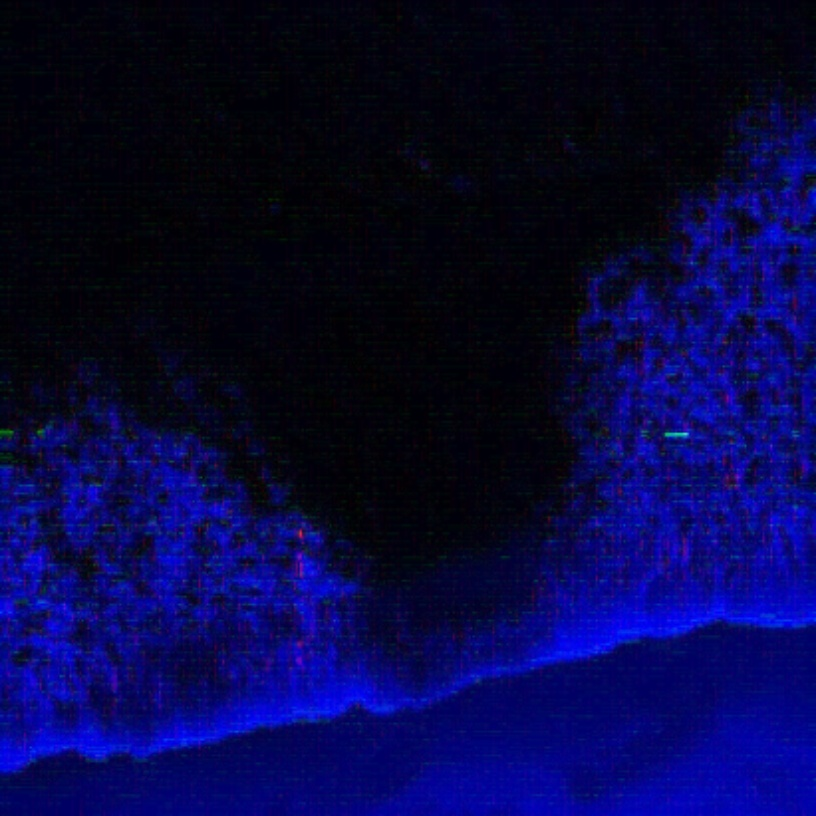rip_current: (134, 153, 633, 592)
